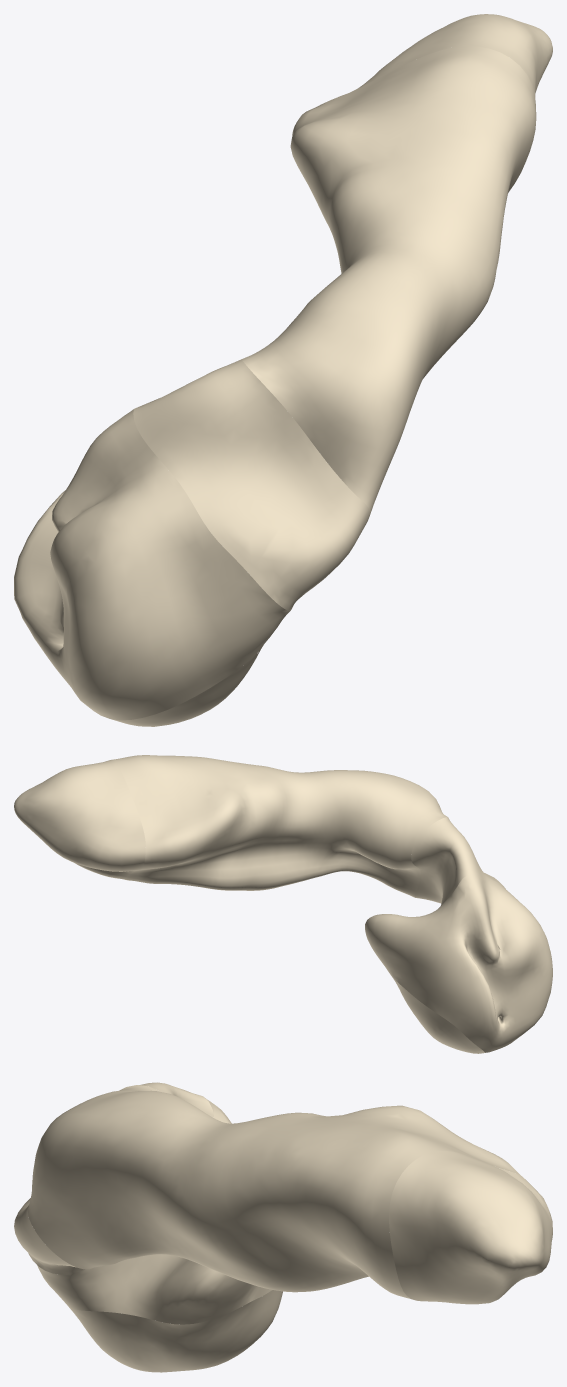
Rendered from pancreas.glb.
3 renders of one model, top to bottom at view 1: azimuth 30°, elevation 25°; view 2: azimuth 150°, elevation 25°; view 3: azimuth 270°, elevation 25°, orthographic. The views are drawn at different scales.
Visible parts, largest first — view 1: VH_M_body_of_pancreas, VH_M_head_of_pancreas, VH_M_neck_of_pancreas, VH_M_tail_of_pancreas, VH_M_uncinate_process_of_the_pancreas; view 2: VH_M_body_of_pancreas, VH_M_head_of_pancreas, VH_M_tail_of_pancreas, VH_M_neck_of_pancreas, VH_M_uncinate_process_of_the_pancreas; view 3: VH_M_body_of_pancreas, VH_M_tail_of_pancreas, VH_M_head_of_pancreas, VH_M_uncinate_process_of_the_pancreas, VH_M_neck_of_pancreas.
Part boxes in pixels (bbox=[...]): VH_M_body_of_pancreas: bbox=[241, 46, 536, 516]; VH_M_head_of_pancreas: bbox=[14, 409, 290, 720]; VH_M_neck_of_pancreas: bbox=[133, 359, 369, 610]; VH_M_tail_of_pancreas: bbox=[334, 14, 552, 98]; VH_M_uncinate_process_of_the_pancreas: bbox=[111, 646, 262, 726]; VH_M_body_of_pancreas: bbox=[112, 755, 447, 897]; VH_M_head_of_pancreas: bbox=[365, 875, 552, 1052]; VH_M_tail_of_pancreas: bbox=[14, 759, 145, 879]; VH_M_neck_of_pancreas: bbox=[411, 817, 502, 905]; VH_M_uncinate_process_of_the_pancreas: bbox=[392, 977, 485, 1053]; VH_M_body_of_pancreas: bbox=[28, 1085, 520, 1299]; VH_M_tail_of_pancreas: bbox=[389, 1151, 552, 1304]; VH_M_head_of_pancreas: bbox=[37, 1096, 271, 1324]; VH_M_uncinate_process_of_the_pancreas: bbox=[70, 1290, 282, 1372]; VH_M_neck_of_pancreas: bbox=[14, 1082, 213, 1274].
Bounding box in the file's own units: 0.1115 × 0.072 × 0.0836.
